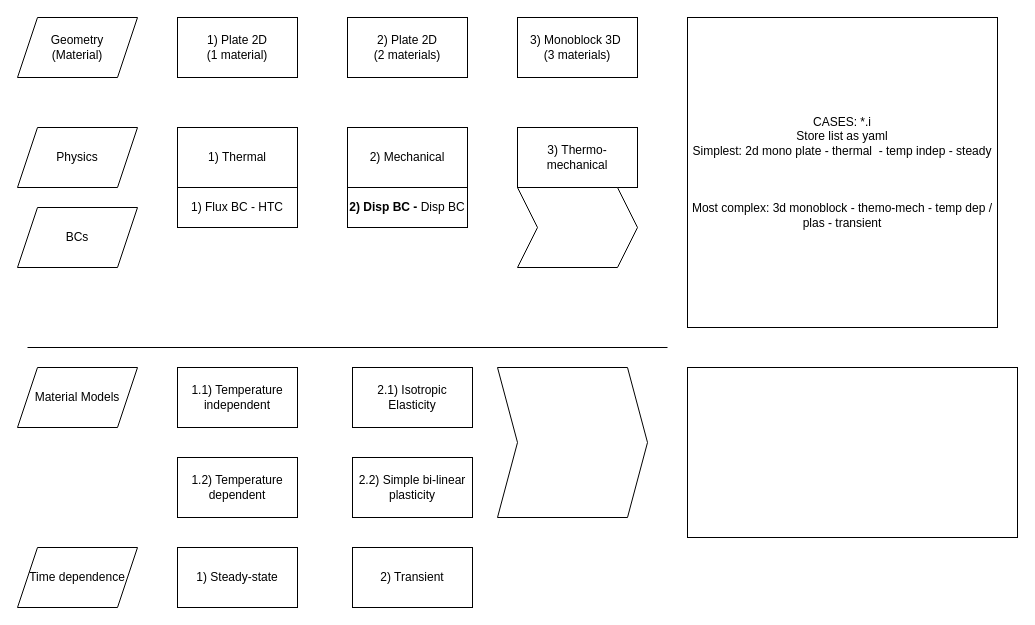
The diagram is 1035 pixels wide and 625 high, and some of its shapes have lost their labels. The centre of each missing label's shape, as x and y in pixels:
Disp BC Flux + HTC BC: the point at 577,227
NAMING CONVENTION: the point at 852,452
Temperature + mech. model permutation: the point at 572,442
